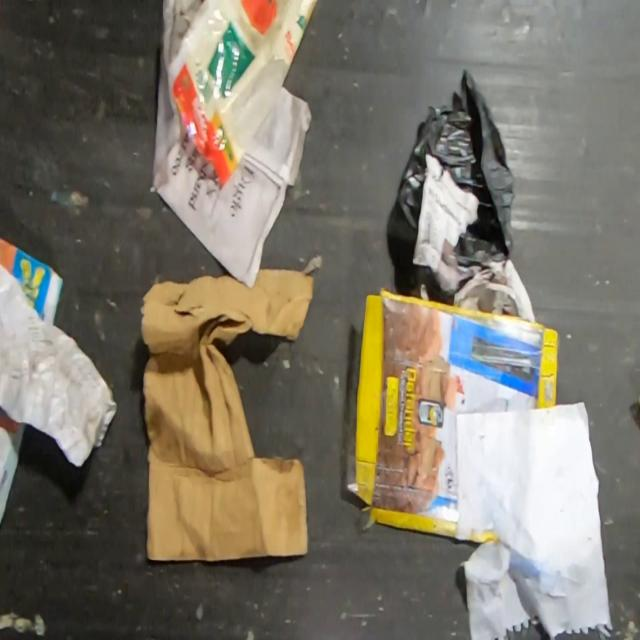cardboard: (138, 252, 323, 563), (344, 285, 560, 544)
rigid_plastic: (397, 67, 516, 265)
soft_plastic: (166, 0, 321, 190)
